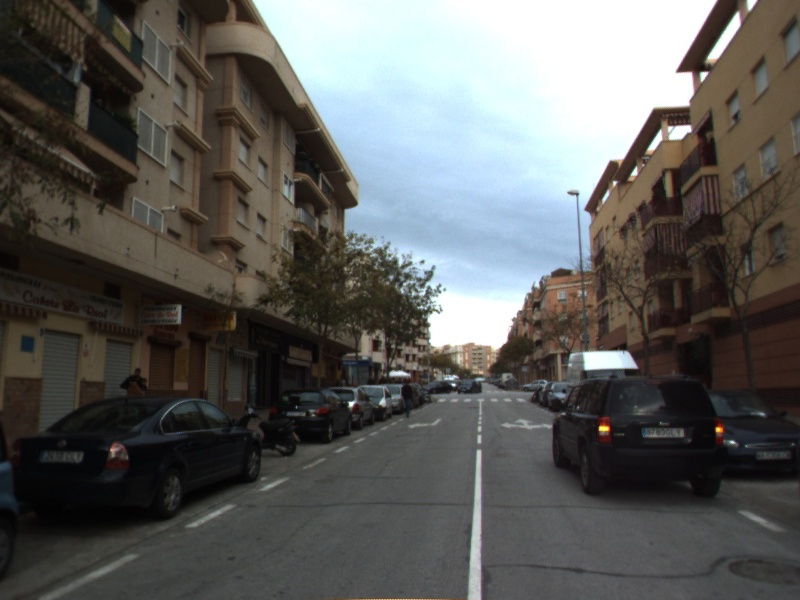STRAIGHT_LEFT_RIGHT: (499, 416, 554, 431)
